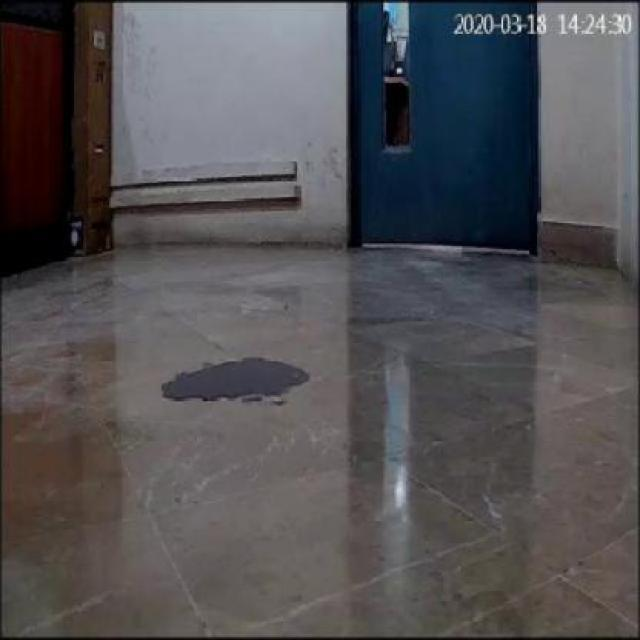spillage: (152, 347, 308, 407)
